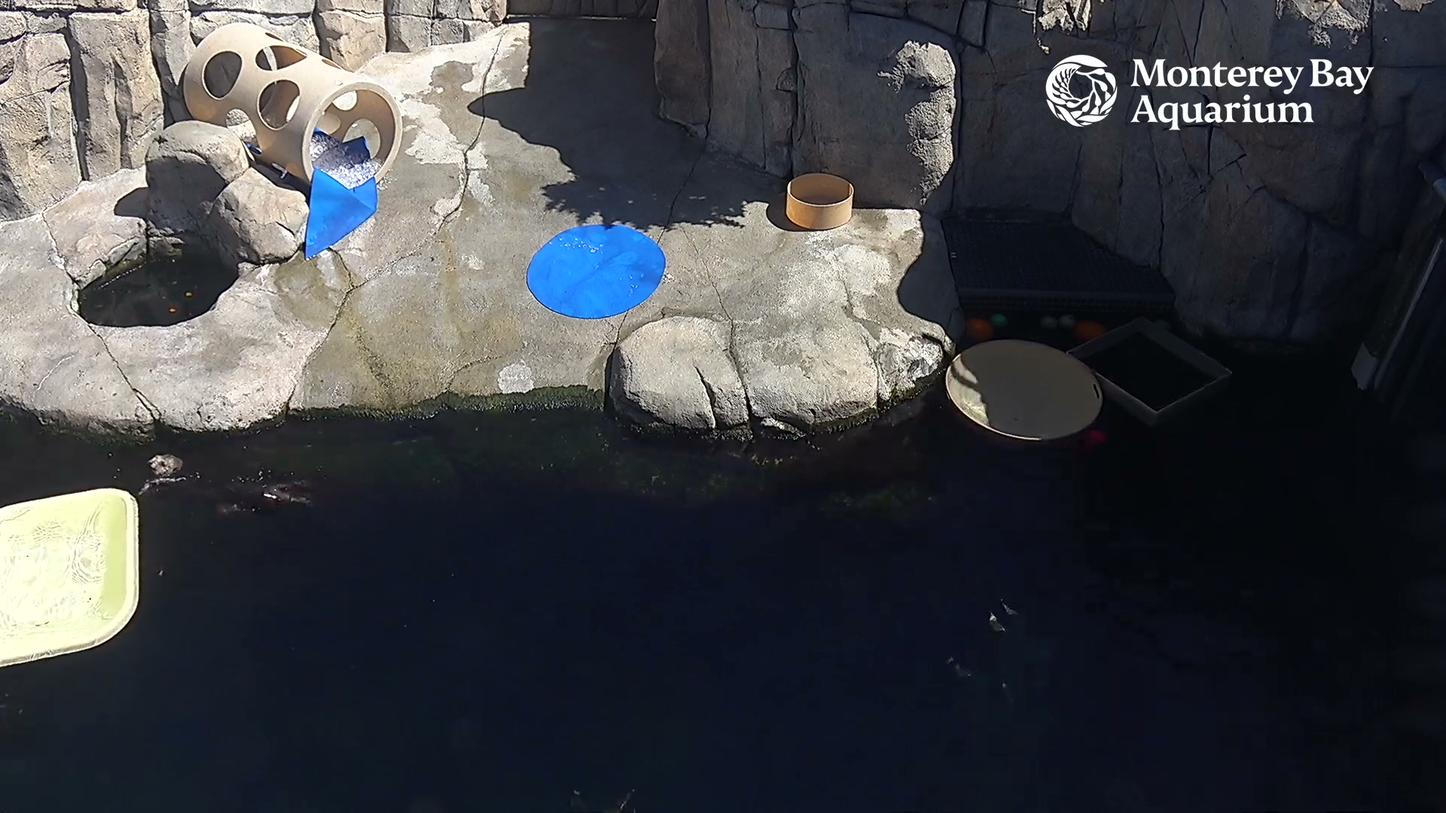Southern Sea Otter: (106, 447, 369, 529)
